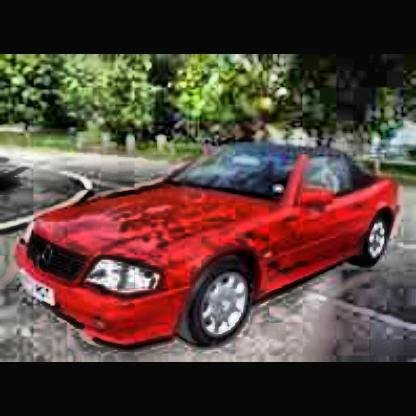Mercedes-Benz 300-Class Convertible 1993: (11, 140, 401, 352)
